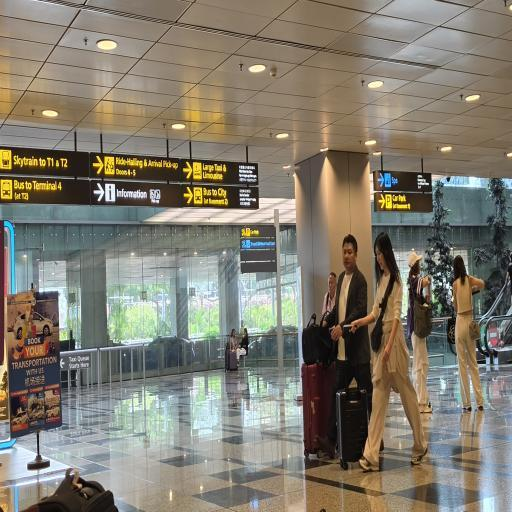person_left: (321, 259, 339, 318)
person_right: (400, 240, 438, 420)
person_with_luggage_left: (290, 229, 377, 461), (338, 240, 410, 478)
